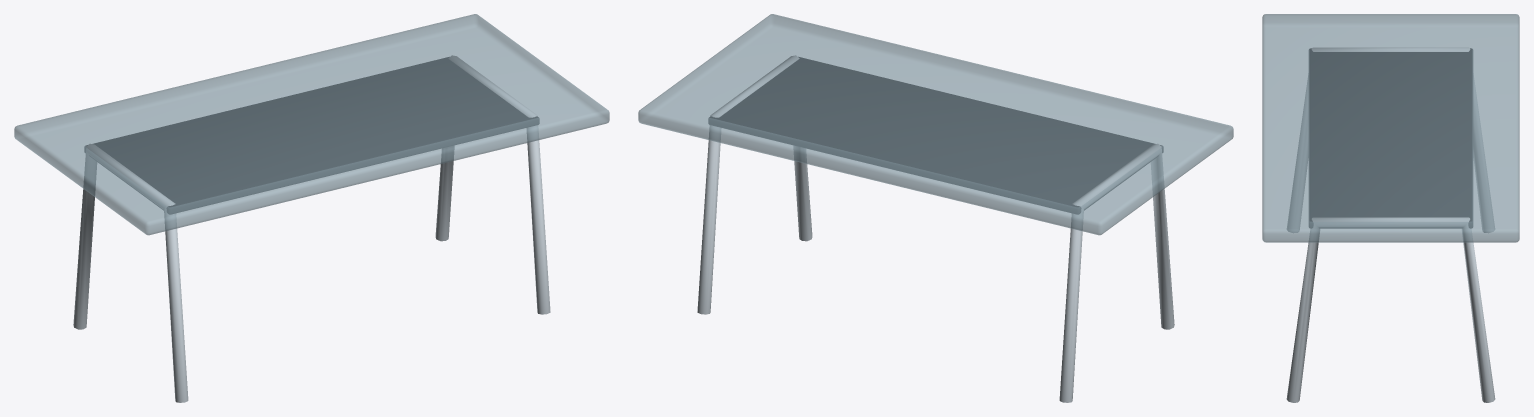
File: glass-dining-table.glb
The picture shows the model from 3 angles, left to right: view 1: azimuth 30°, elevation 25°; view 2: azimuth 150°, elevation 25°; view 3: azimuth 270°, elevation 25°; orthographic projection. The views are drawn at different scales.
Parts seen in each view (by area): view 1: glass-dining-table; view 2: glass-dining-table; view 3: glass-dining-table.
Part boxes in pixels (bbox=[...]): glass-dining-table: bbox=[14, 14, 609, 402]; glass-dining-table: bbox=[638, 14, 1233, 402]; glass-dining-table: bbox=[1262, 14, 1519, 402].
Bounding box in the file's own units: 1.8 × 0.75 × 0.9.
